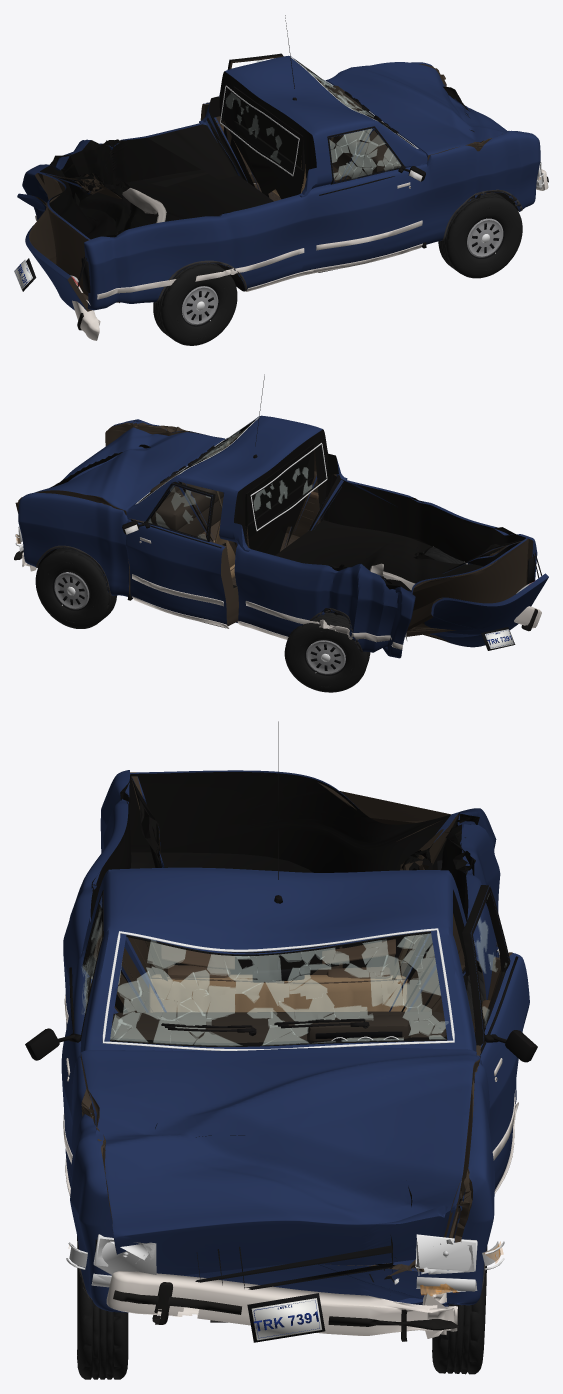
The model's file is pickup87_rear_corner_d2_lod1.glb.
3 renders of one model, top to bottom at view 1: azimuth 30°, elevation 25°; view 2: azimuth 150°, elevation 25°; view 3: azimuth 270°, elevation 25°, orthographic. The views are drawn at different scales.
Visible parts, largest first — view 1: Body, Hood, Wheel_FR_mesh, Wheel_RR_mesh, Door_FR, Interior, Tailgate, Trim, Glass_FR, Trim_FR, Glass, Bumper_R (+2 smaller); view 2: Body, Door_FL, Hood, Wheel_RL_mesh, Wheel_FL_mesh, Tailgate, Interior, Trim, Glass, Trim_FL, Ends, Bumper_R (+2 smaller); view 3: Body, Hood, Glass, Interior, Bumper_F, Ends, Door_FL, Wheel_FR_mesh, Wheel_FL_mesh, Trim_FL, Door_FR, Trim_FR (+2 smaller).
Boxes of the visible parts, x1,y1,x2,y2 form: Body: (22, 55, 540, 310); Hood: (326, 62, 507, 193); Wheel_FR_mesh: (438, 192, 522, 278); Wheel_RR_mesh: (153, 263, 237, 345); Door_FR: (313, 127, 425, 268); Interior: (272, 85, 398, 196); Tailgate: (17, 193, 91, 311); Trim: (35, 15, 522, 302); Glass_FR: (329, 129, 401, 184); Trim_FR: (312, 126, 425, 273); Glass: (220, 57, 418, 176); Bumper_R: (72, 188, 166, 340); Body: (15, 415, 537, 658); Door_FL: (126, 481, 238, 626); Hood: (35, 427, 224, 515); Wheel_RL_mesh: (284, 612, 370, 692); Wheel_FL_mesh: (35, 548, 116, 628); Tailgate: (407, 573, 548, 647); Interior: (150, 447, 235, 578); Trim: (36, 374, 469, 652); Glass: (135, 417, 327, 531); Trim_FL: (122, 483, 228, 628); Ends: (15, 526, 541, 650); Bumper_R: (369, 563, 541, 631); Body: (61, 770, 500, 1312); Hood: (80, 1047, 479, 1279); Glass: (102, 928, 454, 1050); Interior: (110, 939, 446, 1042); Bumper_F: (106, 1271, 458, 1341); Ends: (66, 860, 504, 1342); Door_FL: (462, 885, 529, 1189); Wheel_FR_mesh: (77, 1236, 128, 1379); Wheel_FL_mesh: (432, 1208, 487, 1374); Trim_FL: (471, 886, 537, 1193); Door_FR: (61, 889, 103, 1185); Trim_FR: (25, 890, 113, 1196).
Bounding box in the file's own units: 4.98 × 2.61 × 2.36.
Materials: 34 (5 with a texture image).
